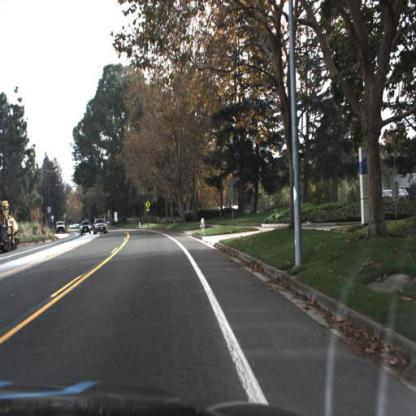car: (93, 218, 111, 236), (81, 221, 92, 235), (56, 221, 66, 235)
